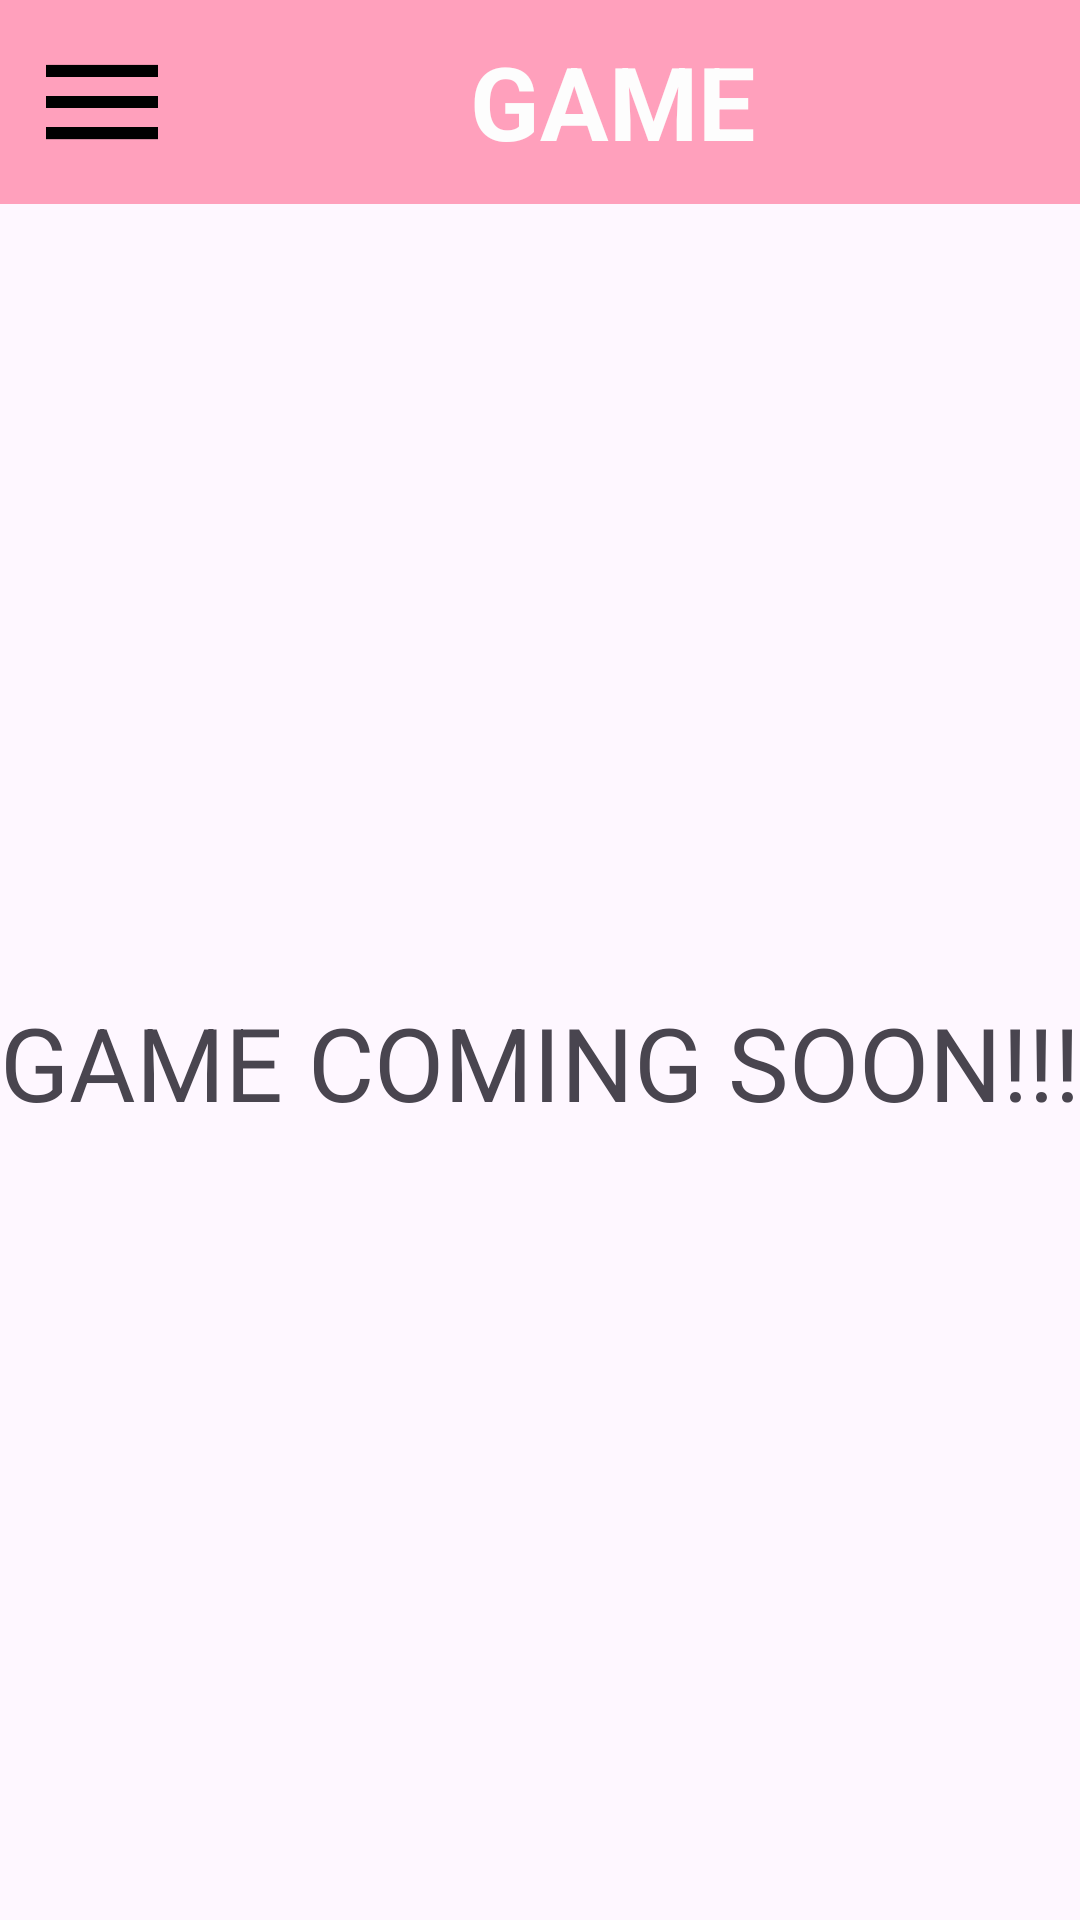

Point at icon controls on the screen. Image size 1080*1920, points as [x,y].
Menu: [102,102]
